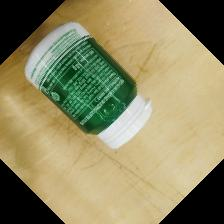Xylitol_green: (22, 20, 155, 151)
